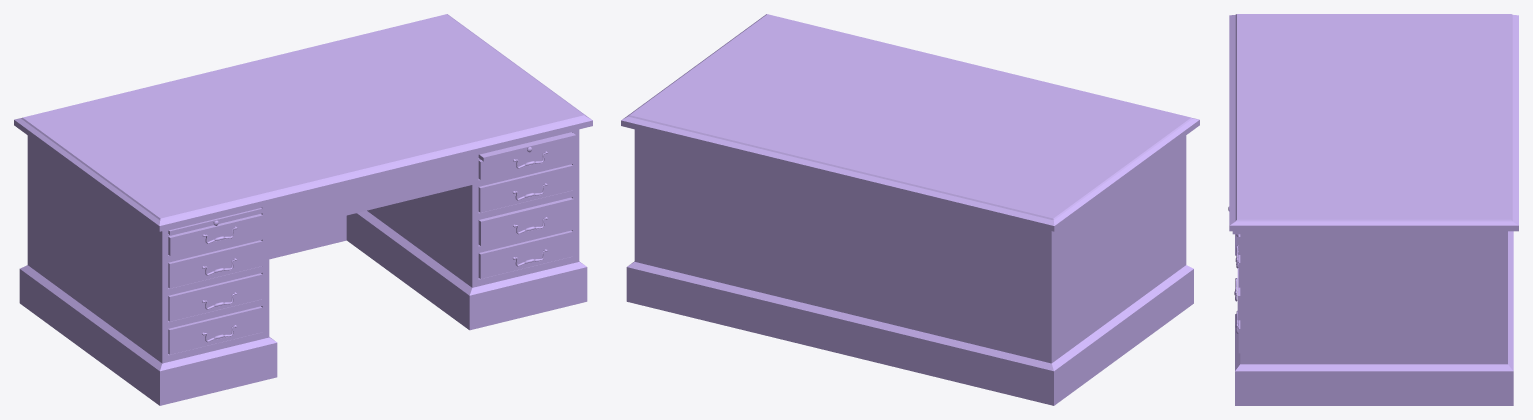
File: desk_executive.fbx
3 views of the same model, side by side, from view 1: azimuth 30°, elevation 25°; view 2: azimuth 150°, elevation 25°; view 3: azimuth 270°, elevation 25° (orthographic).
Parts seen in each view (by area): view 1: desk_executive; view 2: desk_executive; view 3: desk_executive.
Part boxes in pixels (<box>): desk_executive: <box>14,14,592,405</box>; desk_executive: <box>621,14,1199,405</box>; desk_executive: <box>1228,14,1518,405</box>.
Bounding box in the file's own units: 9355 × 3842 × 5462.
